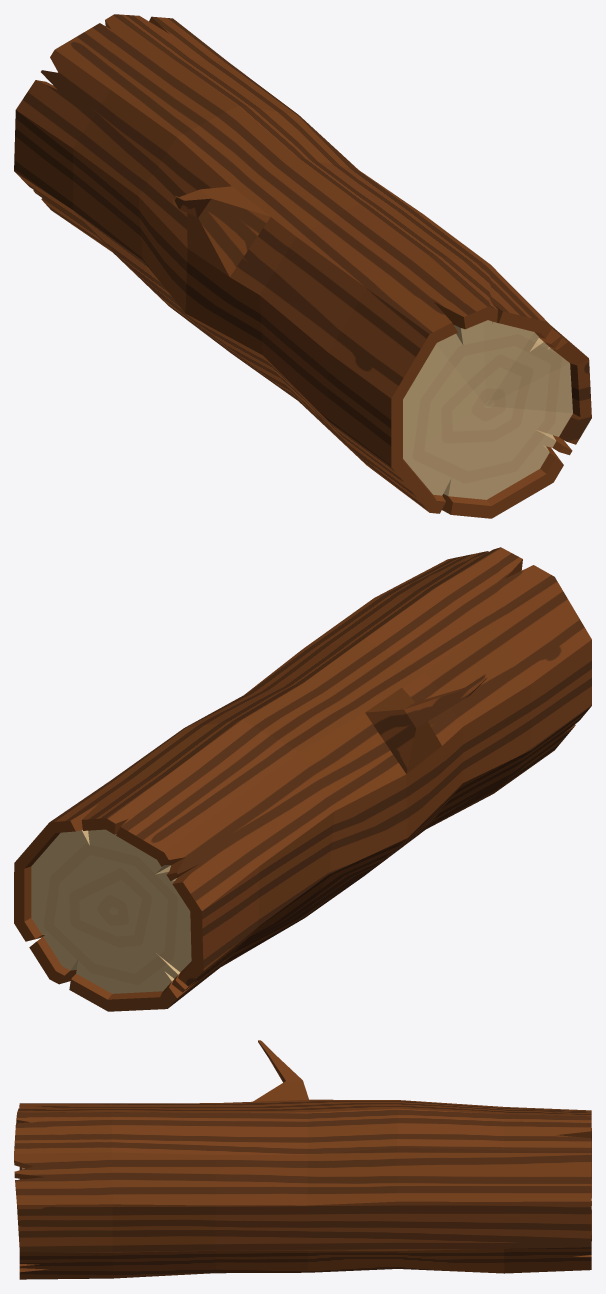
The model's file is log2.fbx.
The picture shows the model from 3 angles, top to bottom: view 1: azimuth 30°, elevation 25°; view 2: azimuth 150°, elevation 25°; view 3: azimuth 270°, elevation 25°; orthographic projection. The views are drawn at different scales.
Visible parts, largest first — view 1: Cylinder; view 2: Cylinder; view 3: Cylinder.
Boxes of the visible parts, x1,y1,x2,y2 form: Cylinder: (14, 14, 591, 518); Cylinder: (14, 547, 591, 1011); Cylinder: (14, 1040, 591, 1279).
Bounding box in the file's own units: 248 × 218 × 644.
